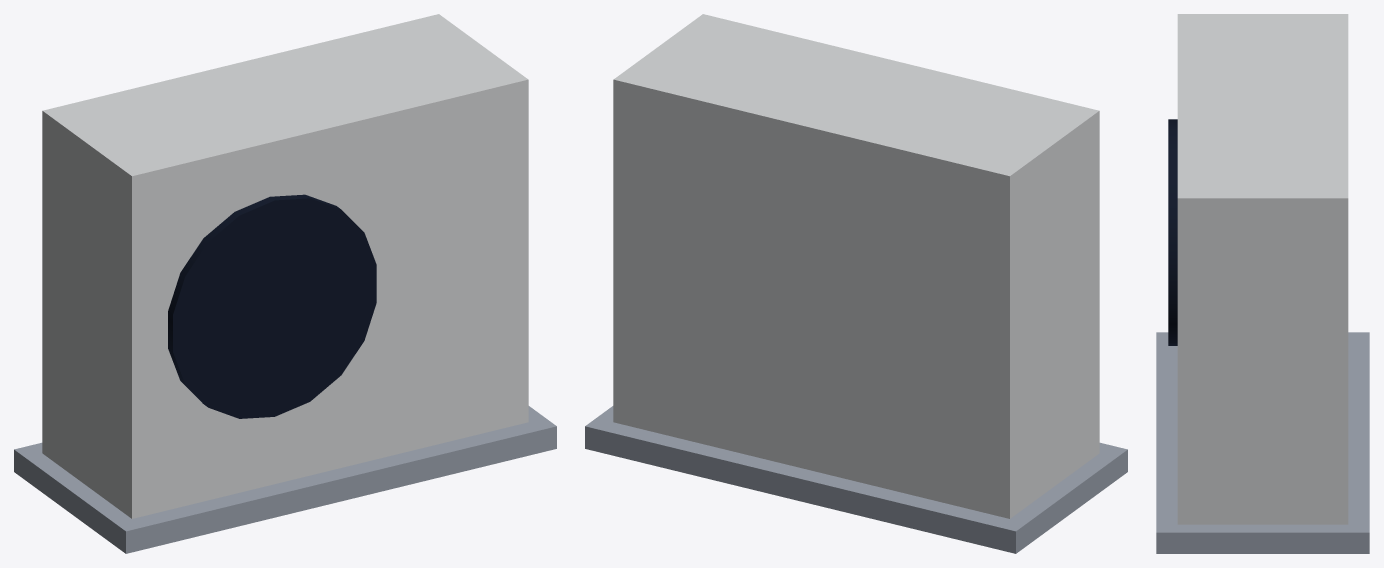
File: equip-mini-split-outdoor.glb
The picture shows the model from 3 angles, left to right: view 1: azimuth 30°, elevation 25°; view 2: azimuth 150°, elevation 25°; view 3: azimuth 270°, elevation 25°; orthographic projection. The views are drawn at different scales.
Visible parts, largest first — view 1: hvac-equipment-mini-split-outdoor; view 2: hvac-equipment-mini-split-outdoor; view 3: hvac-equipment-mini-split-outdoor.
Boxes of the visible parts, left/top/right/bottom form: hvac-equipment-mini-split-outdoor: left=14, top=14, right=556, bottom=553; hvac-equipment-mini-split-outdoor: left=585, top=14, right=1127, bottom=553; hvac-equipment-mini-split-outdoor: left=1156, top=14, right=1369, bottom=553.
Size of the model in its own units: 1 by 0.81 by 0.45.
